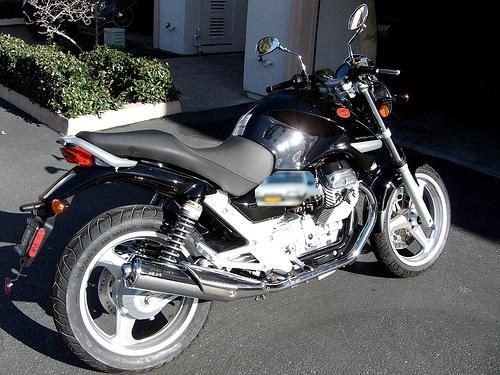tampered: (256, 172, 320, 207)
